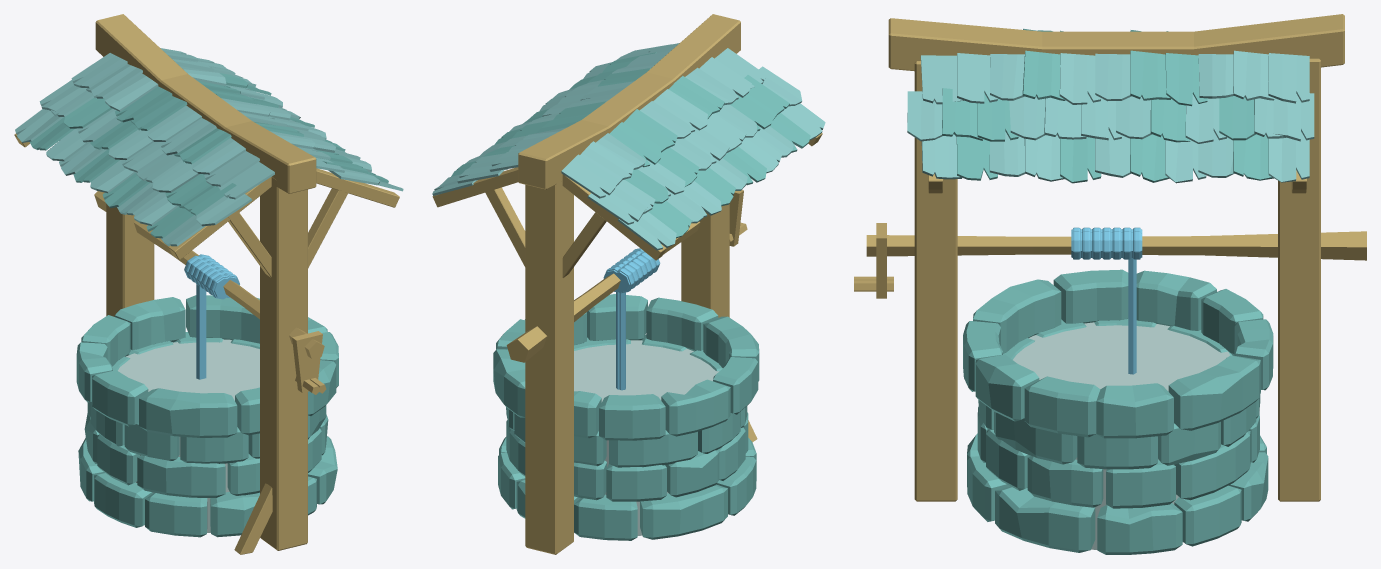
Rendered from Well.fbx.
The picture shows the model from 3 angles, left to right: view 1: azimuth 30°, elevation 25°; view 2: azimuth 150°, elevation 25°; view 3: azimuth 270°, elevation 25°; orthographic projection. The views are drawn at different scales.
Visible parts, largest first — view 1: Well; view 2: Well; view 3: Well.
Part boxes in pixels (x1,y1,x2,y2): Well: (14,14,403,554); Well: (432,14,825,554); Well: (854,14,1366,554).
Bounding box in the file's own units: 115 × 187 × 183.
